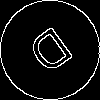D: (25, 25, 81, 83)
